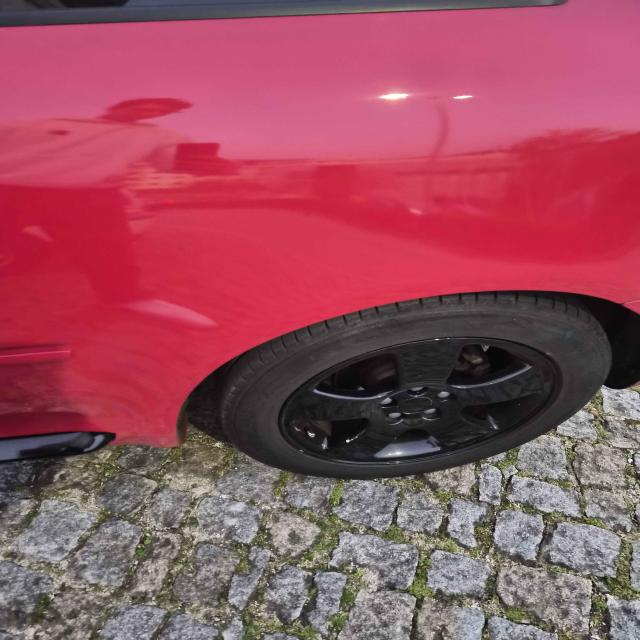jante: (277, 335, 564, 466)
parafuso: (418, 407, 442, 421), (408, 384, 428, 398), (383, 412, 404, 425), (436, 389, 454, 402), (377, 396, 396, 407)
roda: (215, 294, 617, 482)
